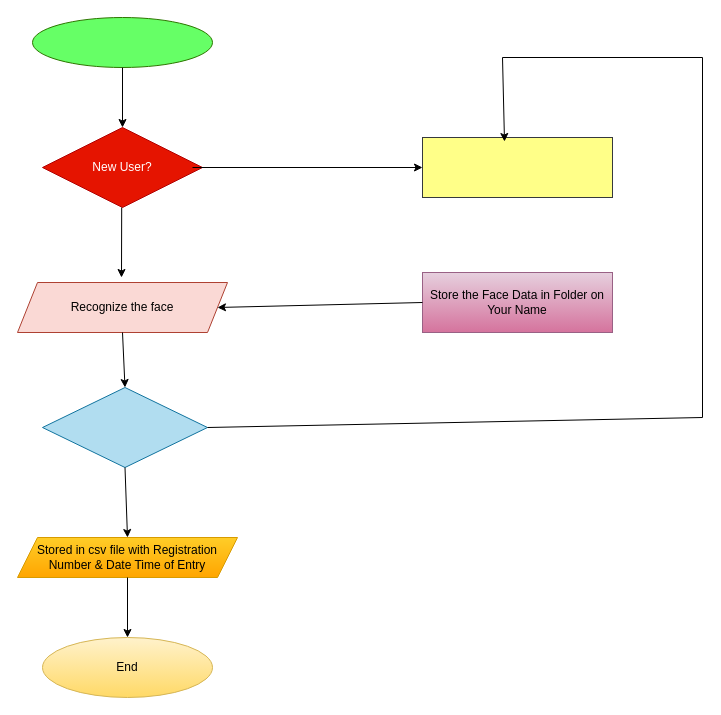
Some shapes in this 721 by 715 pixel diagram are drawn without their labels. Each missing label, with the centre of its shape:
"Face Recognized" goes at (x=125, y=427).
"Given Your Photograph" goes at (x=517, y=167).
"Start" goes at (x=122, y=42).
